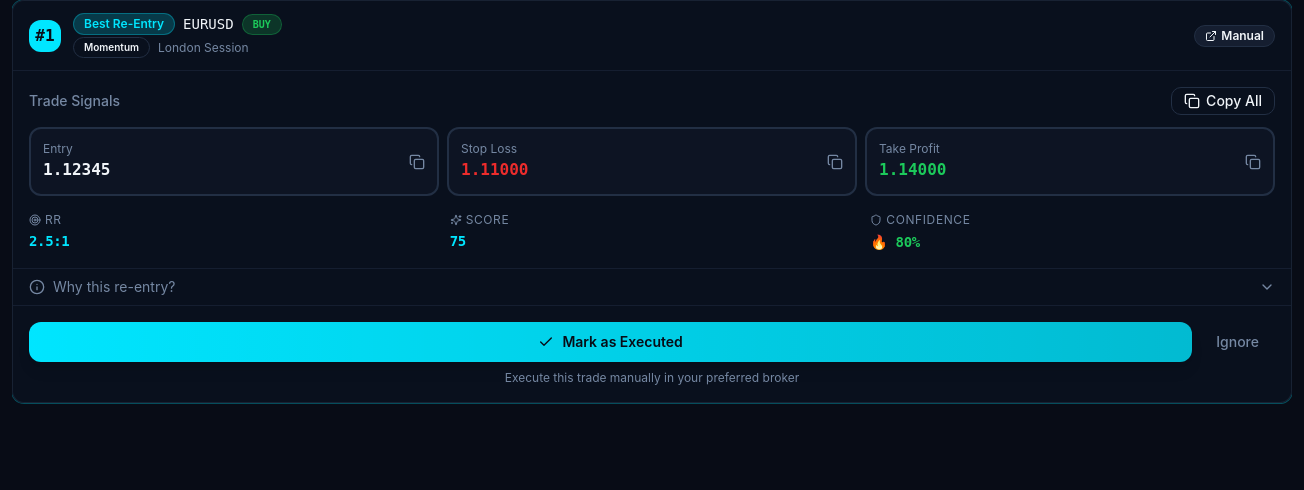
it: ManualSignalCard › expands rules section when clicked
Check: the text "Price rejected from key level" is not shown
// Click to expand
Click the button "Why this re-entry?" at (114, 286), box [13,269,1291,305]
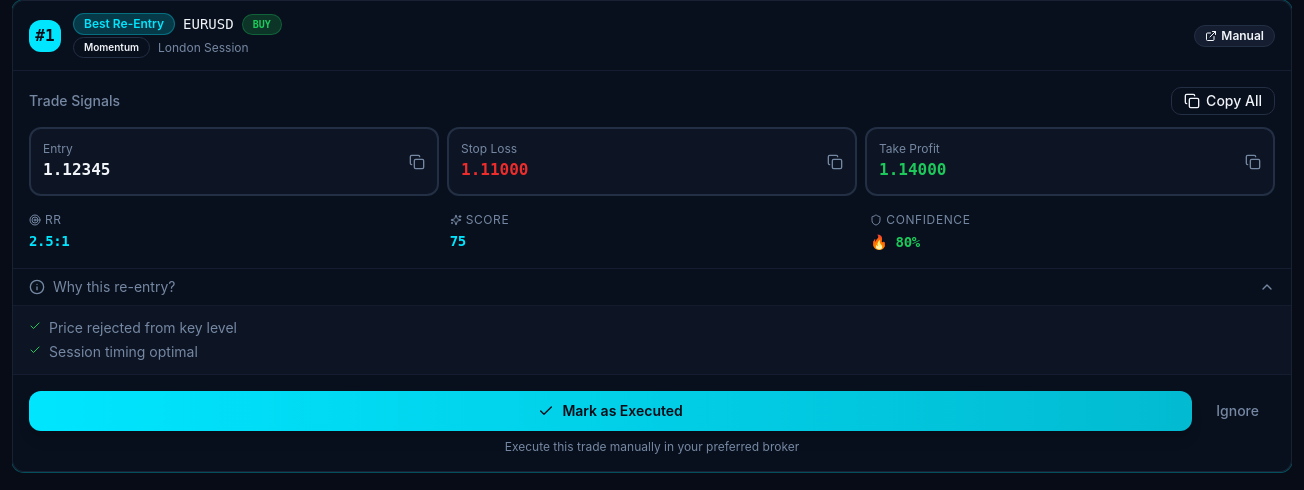
Check: the list item "Price rejected from key level" is shown, box [29,319,237,336]
Check: the list item "Session timing optimal" is shown, box [29,343,198,360]
